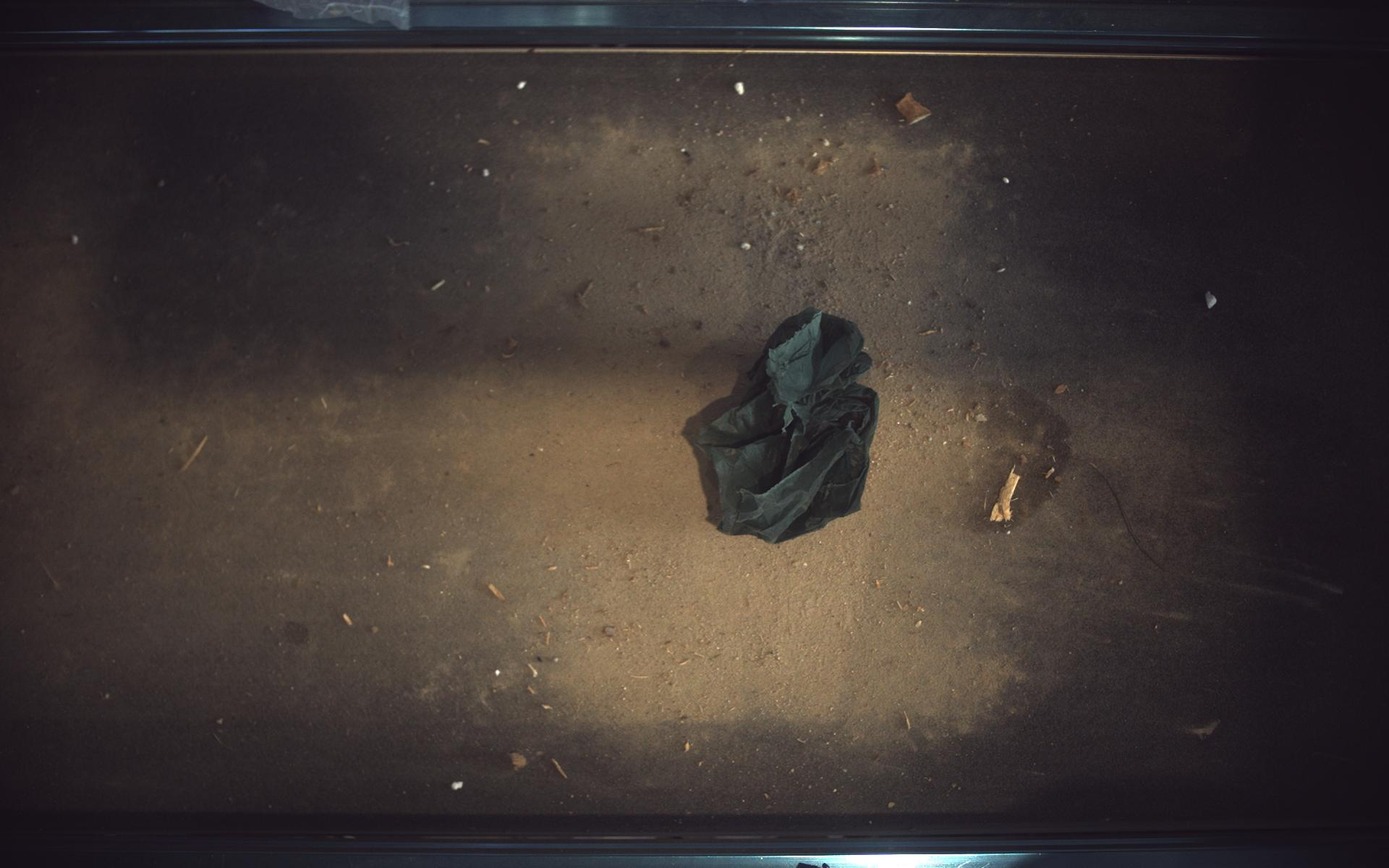general_w: (695, 307, 879, 543)
